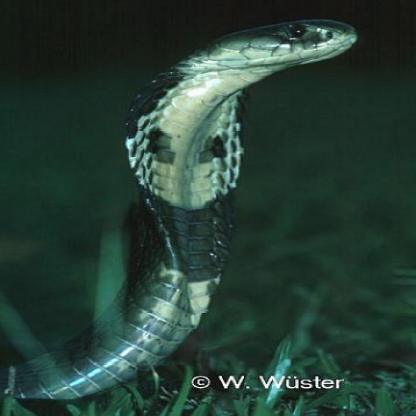snakes: (84, 12, 366, 374)
